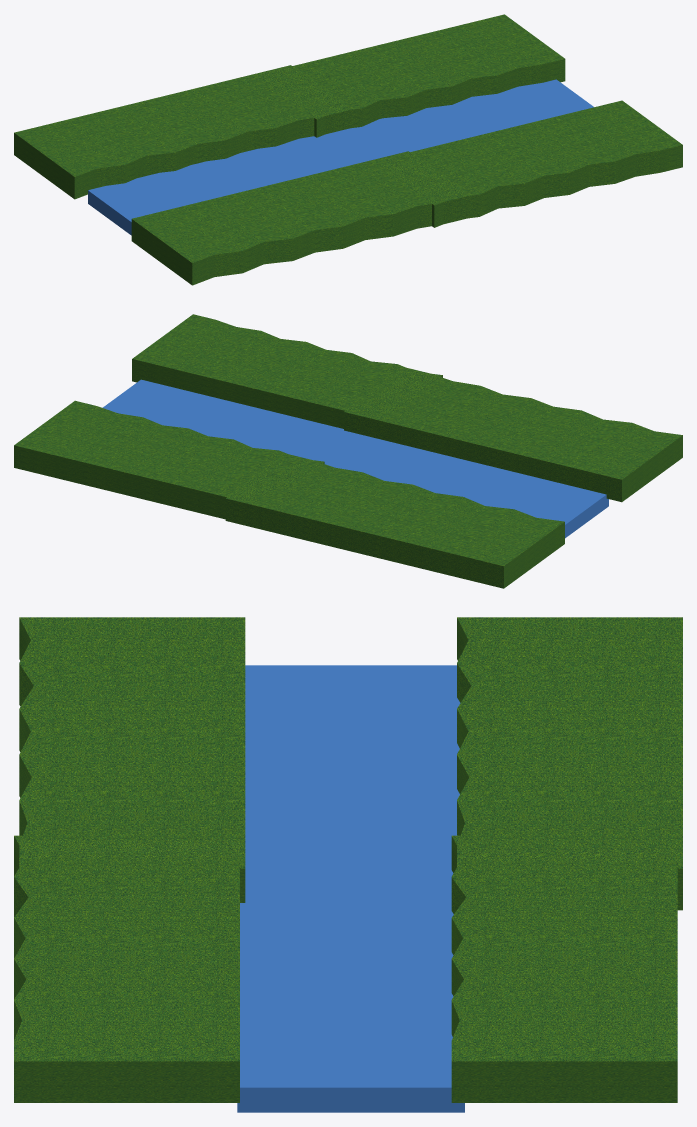
Rendered from river area.fbx.
3 renders of one model, top to bottom at view 1: azimuth 30°, elevation 25°; view 2: azimuth 150°, elevation 25°; view 3: azimuth 270°, elevation 25°, orthographic. The views are drawn at different scales.
Visible parts, largest first — view 1: pCube348, pCube347, pCube300; view 2: pCube347, pCube348, pCube300; view 3: pCube348, pCube347, pCube300.
Part boxes in pixels (<box>): pCube348: <box>131,100,682,285</box>; pCube347: <box>14,14,565,199</box>; pCube300: <box>88,79,593,235</box>; pCube347: <box>14,400,564,588</box>; pCube348: <box>132,314,682,502</box>; pCube300: <box>102,379,608,538</box>; pCube348: <box>14,617,245,1102</box>; pCube347: <box>451,617,682,1102</box>; pCube300: <box>237,665,464,1112</box>.
Bounding box in the file's own units: 3212 × 200 × 2045.
